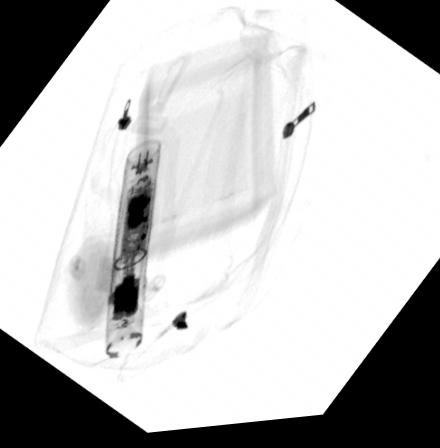Baton: (105, 140, 162, 363)
